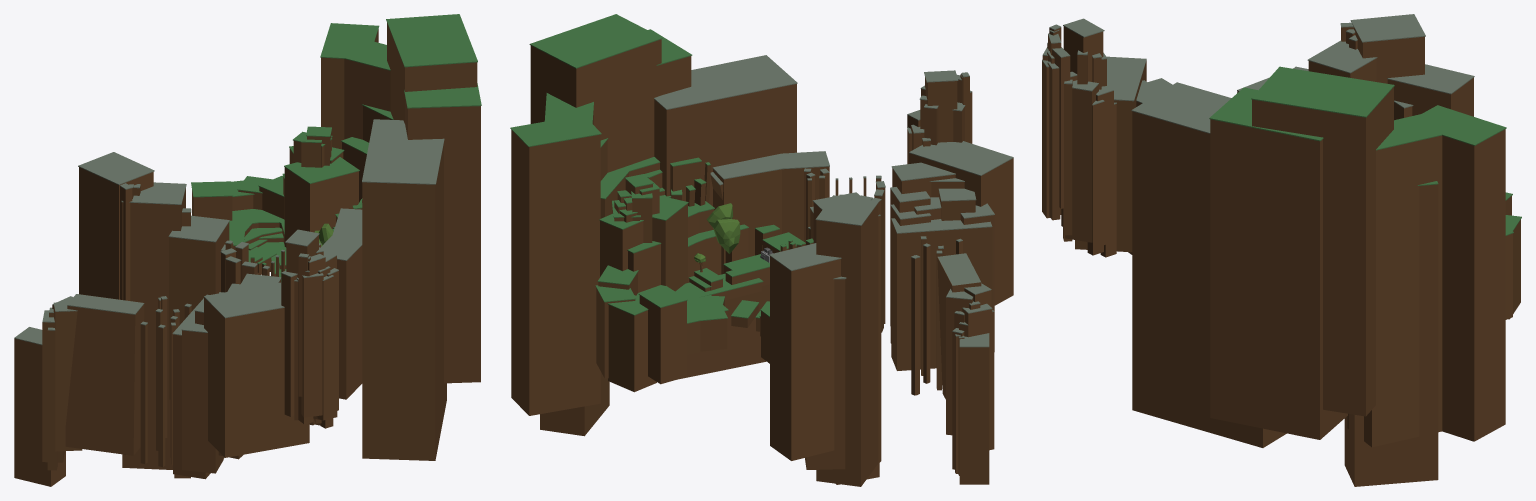
The model's file is -- GROUND --.fbx.
3 views of the same model, side by side, from view 1: azimuth 30°, elevation 25°; view 2: azimuth 150°, elevation 25°; view 3: azimuth 270°, elevation 25° (orthographic). The views are drawn at different scales.
Parts seen in each view (by area): view 1: Dirt, Dirt__38_, Dirt__64_, Dirt__80_, GrassBlock__90_, Dirt__39_, GrassBlock__92_, Dirt__1_, Dirt__59_, Dirt__74_, GrassBlock__119_, Dirt__60_ (+22 smaller); view 2: Dirt, Dirt__37_, Dirt__80_, Dirt__38_, GrassBlock__90_, GrassBlock__92_, GrassBlock__119_, Dirt__1_, GrassBlock__95_, Dirt__40_, GrassBlock__74_, Dirt__75_ (+23 smaller); view 3: Dirt, GrassBlock__92_, Dirt__44_, Dirt__38_, GrassBlock__90_, GrassBlock__95_, Dirt__45_, Dirt__57_, GrassBlock__74_, Dirt__42_, GrassBlock__119_, Dirt__55_ (+8 smaller).
Boxes of the visible parts, x1,y1,x2,y2 form: Dirt: (79,23,480,469); Dirt__38_: (204,297,309,457); Dirt__64_: (65,294,144,455); Dirt__80_: (14,338,65,486); GrassBlock__90_: (362,119,444,184); Dirt__39_: (182,330,223,473); GrassBlock__92_: (386,14,477,67); Dirt__1_: (337,245,362,399); Dirt__59_: (301,275,323,417); Dirt__74_: (53,305,82,451); GrassBlock__119_: (204,282,284,318); Dirt__60_: (317,276,333,420); Dirt: (511,39,879,486); Dirt__37_: (891,220,992,370); Dirt__80_: (959,347,989,484); Dirt__38_: (909,153,1013,305); GrassBlock__90_: (654,55,797,109); GrassBlock__92_: (529,14,662,68); GrassBlock__119_: (909,141,1013,175); Dirt__1_: (782,166,829,241); GrassBlock__95_: (510,116,601,146); Dirt__40_: (925,77,957,142); GrassBlock__74_: (815,195,878,225); Dirt__75_: (946,297,973,435); Dirt: (1132,27,1520,486); GrassBlock__92_: (1251,66,1394,117); Dirt__44_: (1065,84,1098,242); Dirt__38_: (1075,60,1146,252); GrassBlock__90_: (1131,82,1231,133); GrassBlock__95_: (1406,105,1506,145); Dirt__45_: (1087,102,1103,255); Dirt__57_: (1047,63,1060,220); GrassBlock__74_: (1350,14,1425,42); Dirt__42_: (1096,91,1113,244); GrassBlock__119_: (1107,56,1146,101); Dirt__55_: (1064,82,1072,235).
Size of the model in its own units: 61064 by 47958 by 51405.
5 materials, 2 textured.
